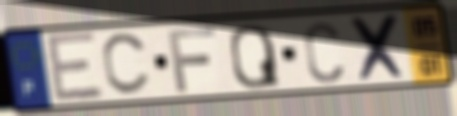C: (99, 30, 152, 98), (301, 20, 346, 85)
E: (43, 30, 107, 107)
F: (165, 25, 219, 95)
Q: (227, 22, 283, 91)
X: (348, 11, 410, 85)
